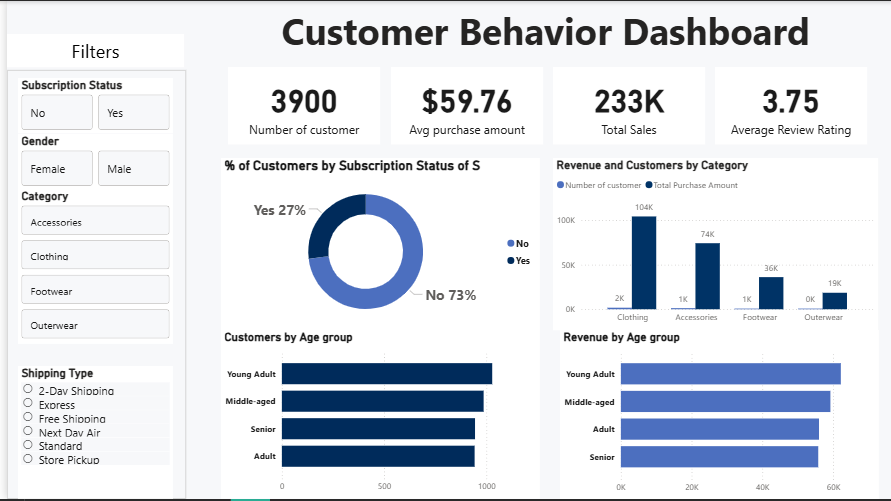

The dashboard page shown, as its layout file describes it:
{"tool":"powerbi","page":{"name":"Customer Behavior Dashboard","canvas":[1280,720],"ordinal":1},"visuals":[{"type":"card","title":"Total Customers","fields":{"Values":["Measures Table.Number of customer"]},"box":[320,96,220,112],"z":0},{"type":"shape","box":[0,100.1,259.2,620.3],"z":1000},{"type":"card","title":"Total Customers","fields":{"Values":["Measures Table.Average purchase amount"]},"box":[554.7,96,220,112],"z":2000},{"type":"card","title":"Total Customers","fields":{"Values":["Measures Table.Average Review Rating"]},"box":[1024,96,220,112],"z":3000},{"type":"advancedSlicerVisual","title":"Subscription Status","fields":{"Values":["public customer.subscription_status"]},"box":[16,112,224,80],"z":5000},{"type":"advancedSlicerVisual","title":"Gender","fields":{"Values":["public customer.gender"]},"box":[16,192,224,80],"z":6000},{"type":"advancedSlicerVisual","title":"Category","fields":{"Values":["public customer.category"]},"box":[16,272,224,224],"z":7000},{"type":"listSlicer","title":"Shipping Type","fields":{"Values":["public customer.shipping_type"]},"box":[16,528,224,192],"z":8000},{"type":"donutChart","title":"% of Customers by Subscription Status of S","fields":{"Category":["public customer.subscription_status"],"Y":["Measures Table.Number od customer"]},"box":[309.4,227,461.2,248.7],"z":9000},{"type":"clusteredColumnChart","title":"Revenue and Customers by Category","fields":{"Category":["public customer.category"],"Y":["Measures Table.Number of customer","Measures Table.Total Purchase Amount"]},"box":[789.4,227,469.9,248.7],"z":10000},{"type":"clusteredBarChart","title":"Customers by Age group","fields":{"Category":["public customer.age_group"],"Y":["Measures Table.Number of customer"]},"box":[309,476,461,244],"z":11000},{"type":"clusteredBarChart","title":"Revenue by Age group","fields":{"Category":["public customer.age_group"],"Y":["Measures Table.Total Purchase Amount"]},"box":[799.1,475.5,461.2,244.9],"z":12000},{"type":"textbox","box":[304,0,976,96],"z":13000},{"type":"textbox","box":[0,48,256,48],"z":13001},{"type":"card","title":"Total Customers","fields":{"Values":["Measures Table.Total Purchase Amount"]},"box":[789.3,96,220,112],"z":13002}]}

Visuals, with their boxes in screenshot pixels (x1, y1, x2, y2), scaled from the page's 1280x720 canvas onto the 891x501 screenshot:
"Total Customers" card: (223, 67, 376, 145)
shape: (0, 70, 180, 500)
"Total Customers" card: (386, 67, 539, 145)
"Total Customers" card: (713, 67, 866, 145)
"Subscription Status" advancedSlicerVisual: (11, 78, 167, 134)
"Gender" advancedSlicerVisual: (11, 134, 167, 189)
"Category" advancedSlicerVisual: (11, 189, 167, 345)
"Shipping Type" listSlicer: (11, 367, 167, 500)
"% of Customers by Subscription Status of S" donutChart: (215, 158, 536, 331)
"Revenue and Customers by Category" clusteredColumnChart: (549, 158, 877, 331)
"Customers by Age group" clusteredBarChart: (215, 331, 536, 500)
"Revenue by Age group" clusteredBarChart: (556, 331, 877, 500)
textbox: (212, 0, 890, 67)
textbox: (0, 33, 178, 67)
"Total Customers" card: (549, 67, 703, 145)
